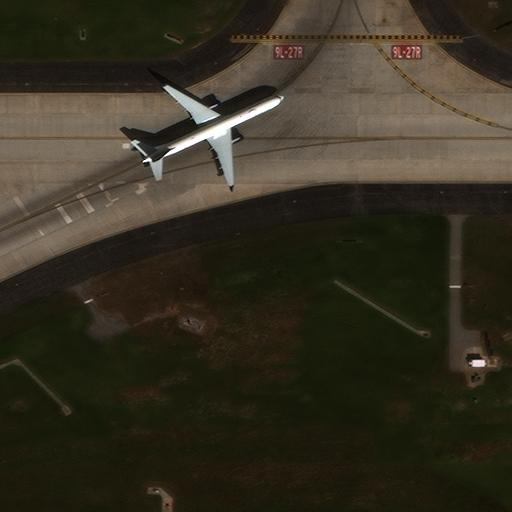Large Civil Transport: (141, 84, 284, 185)
